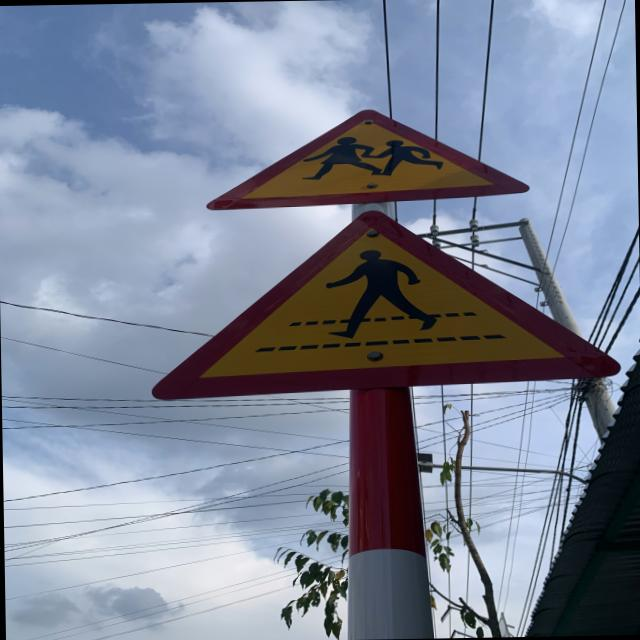Duong_Nguoi_Di_Bo_Sang_Ngang: (146, 203, 622, 400)
Vong_Xuyen: (204, 104, 528, 210)
